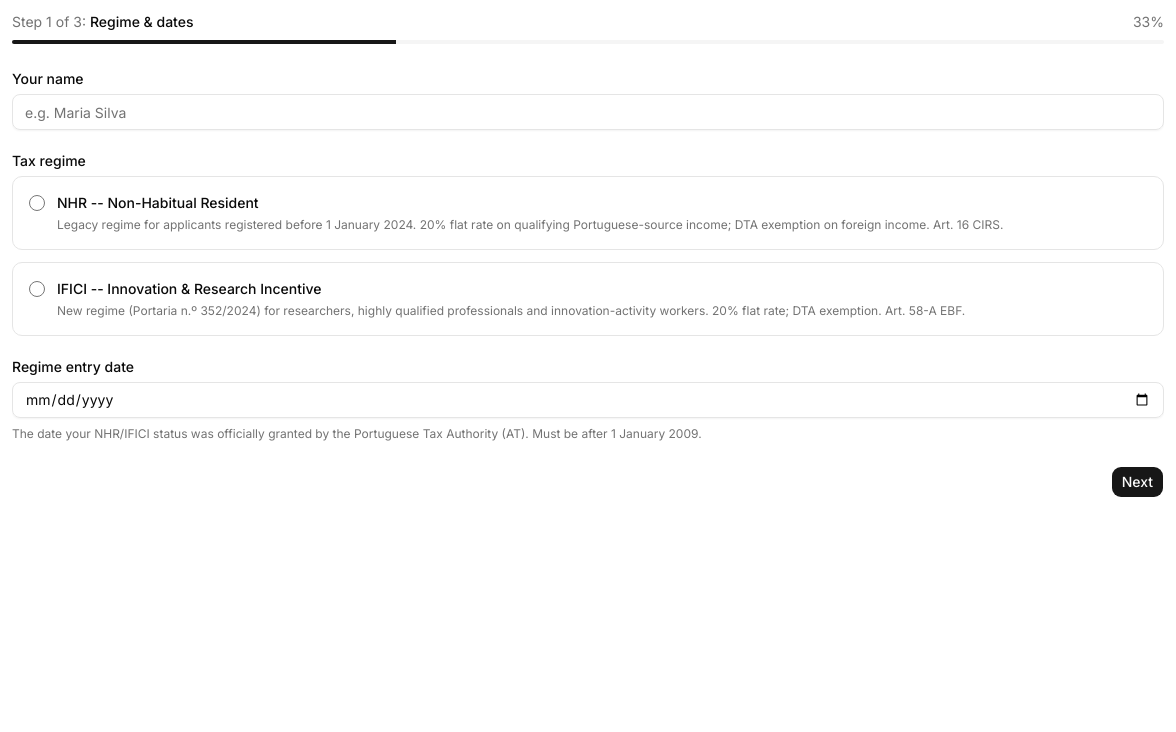
OnboardingWizard › advances to Step 3 (Income events) after completing Step 2
The width and height of the screenshot is (1176, 732).
Type "Test User" into the field labelled "Your name" at x=588, y=112, box [12,94,1164,130]
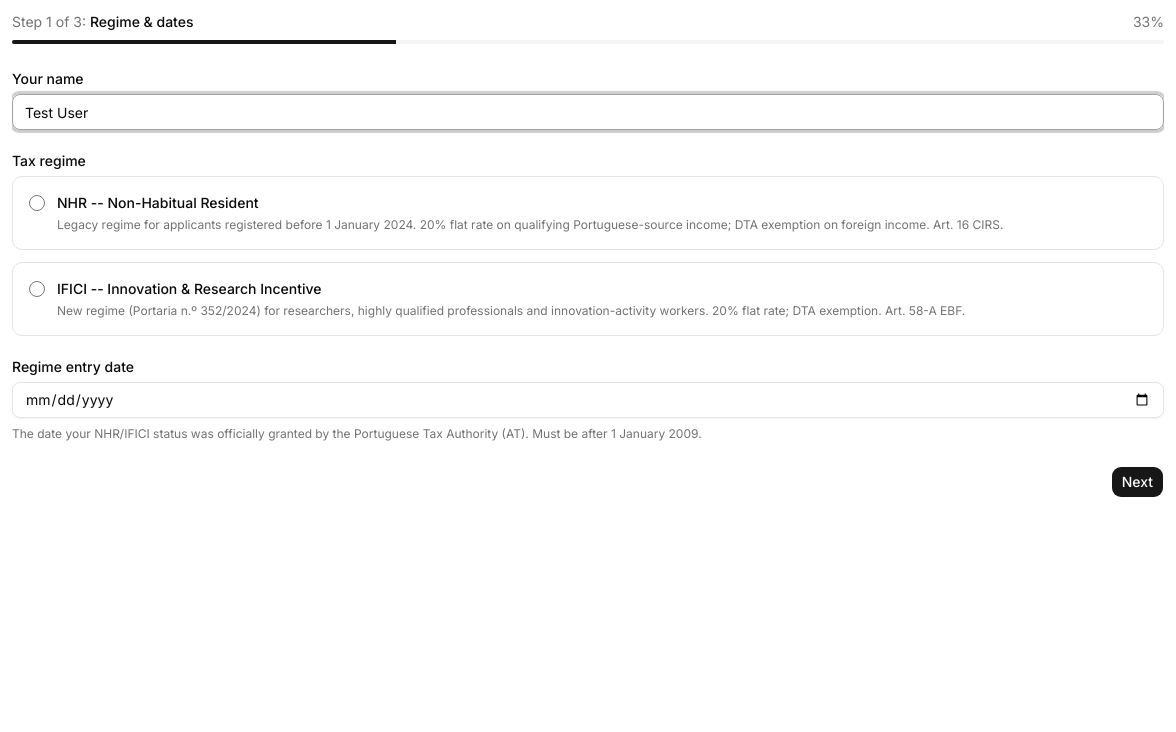
Click the text "NHR -- Non-Habitual Resident" at x=158, y=202, box [57,194,259,211]
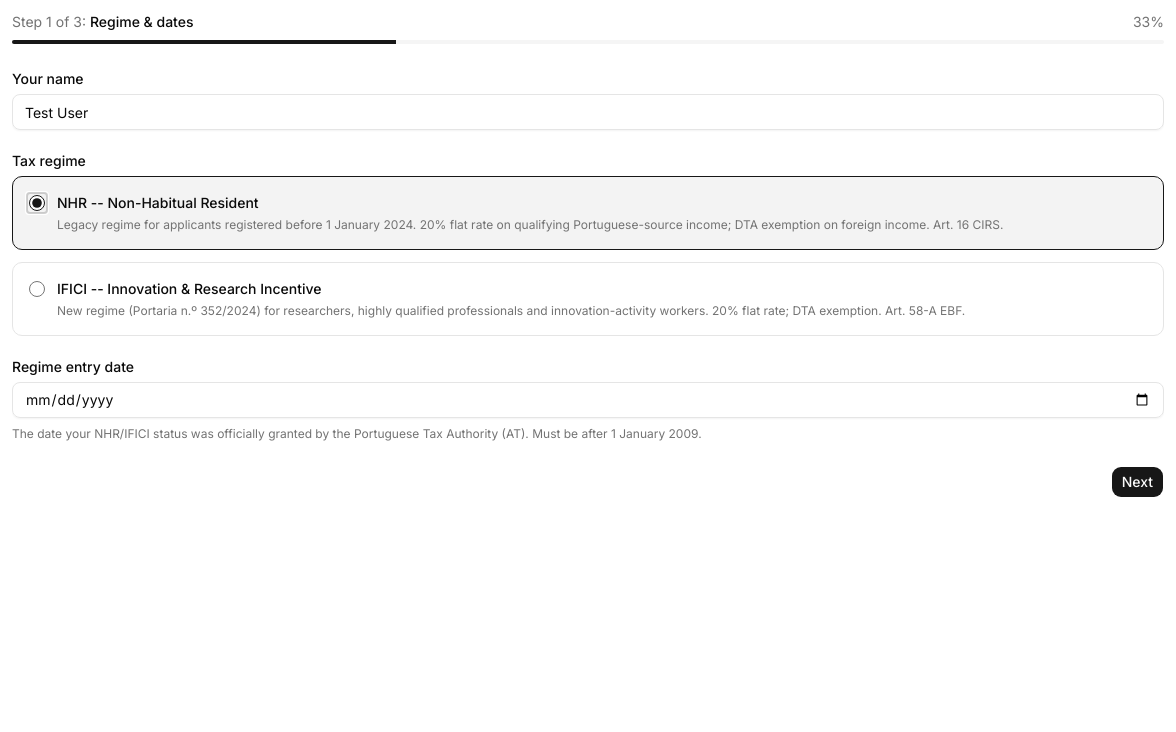
Type "2022-01-01" into the date field labelled "Regime entry date" at x=588, y=400, box [12,382,1164,418]
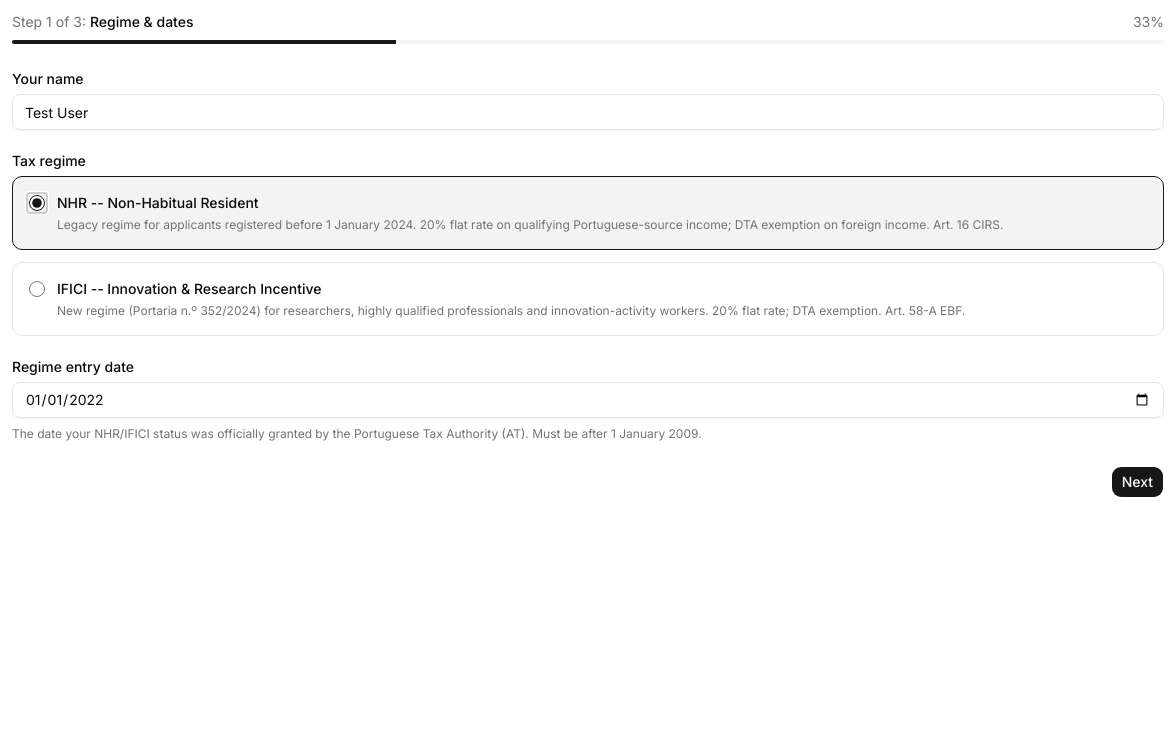
Click the button "Next" at x=1137, y=482, box [1111,466,1164,498]
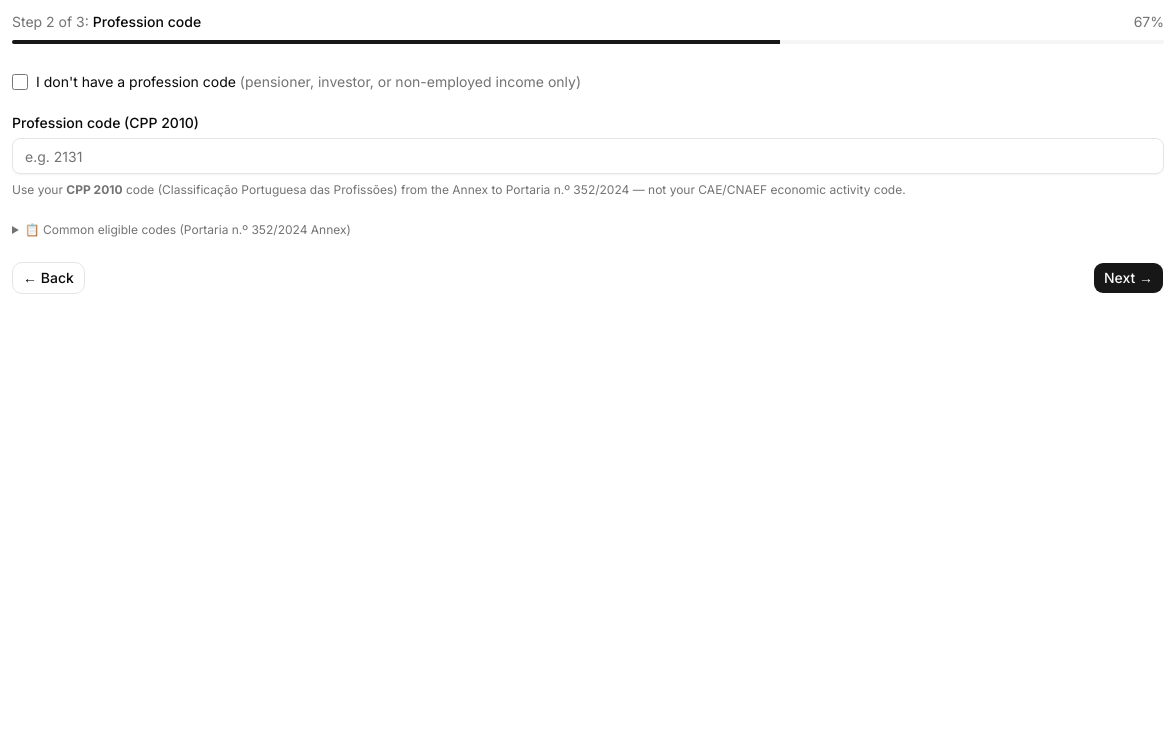
Type "2131" into the field with placeholder "e.g. 2131" at x=588, y=156, box [12,138,1164,174]
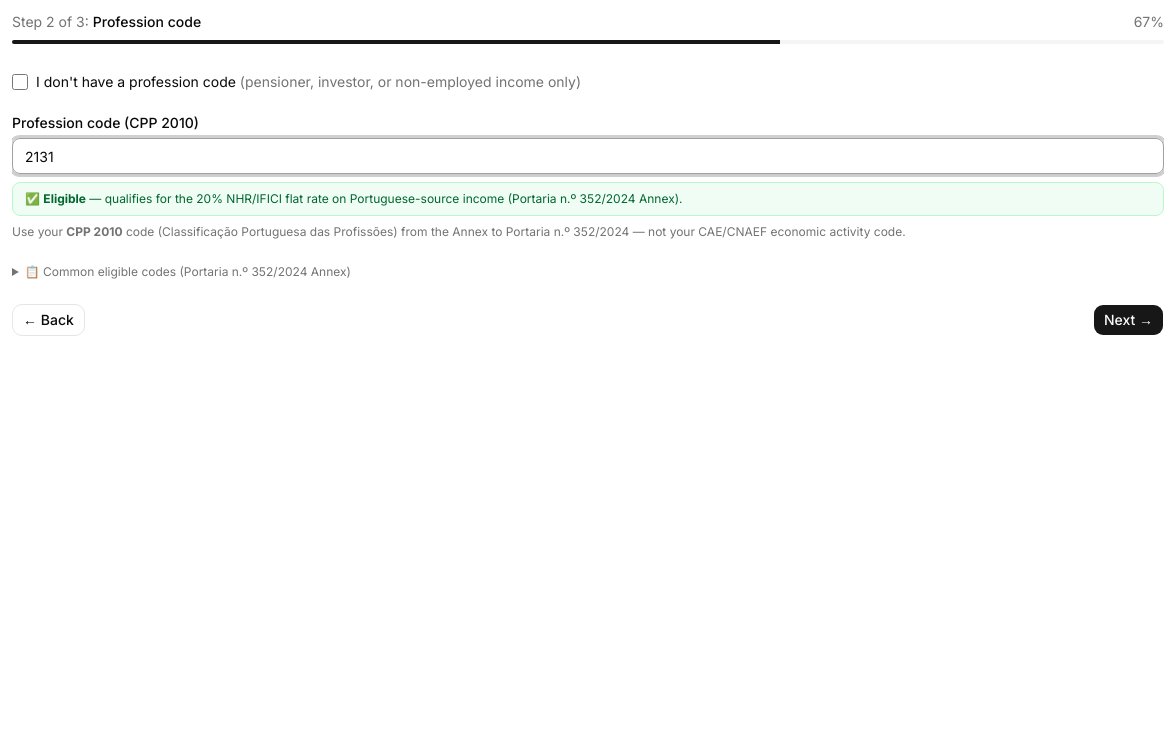
Click the button "Next →" at x=1128, y=320, box [1093,304,1164,336]
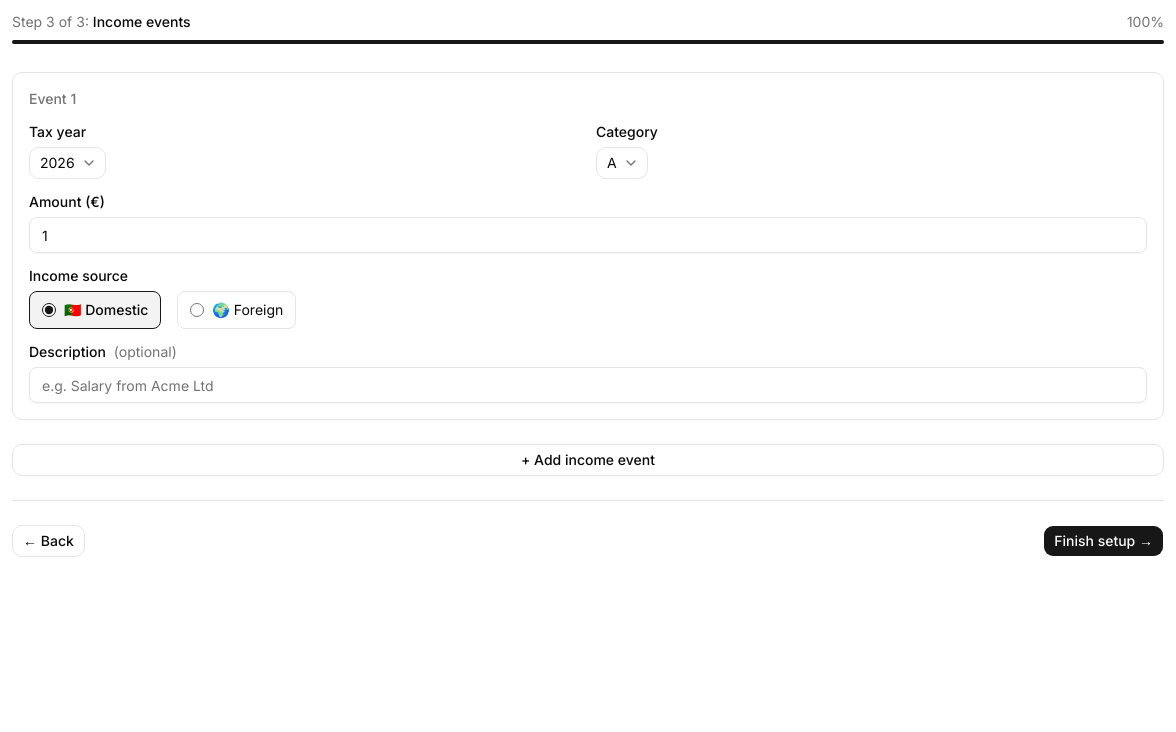
Check: the text "Income events" is shown, box [93,13,191,30]
